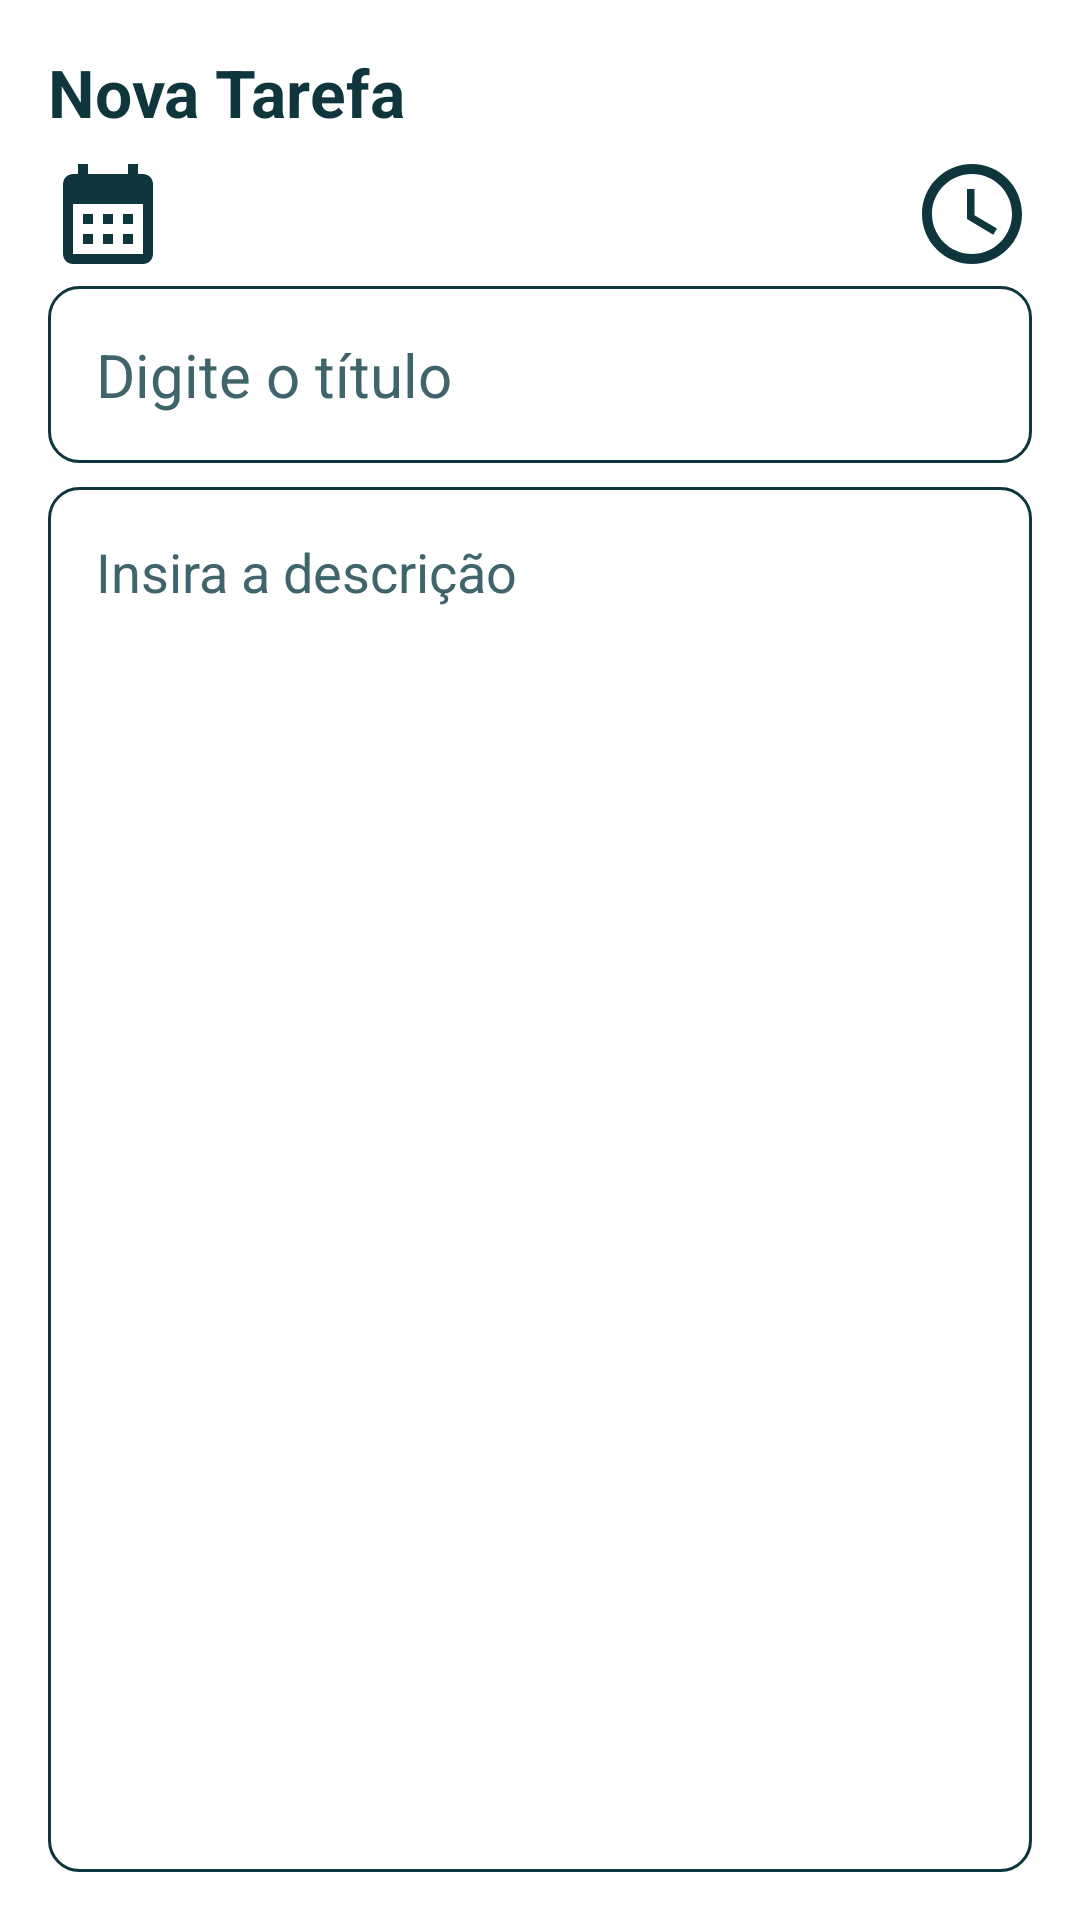

Icon click points for this 1080×1920 phone screenshot, format (x,y):
Selecione a data: (108,214)
Selecione a hora: (972,214)
